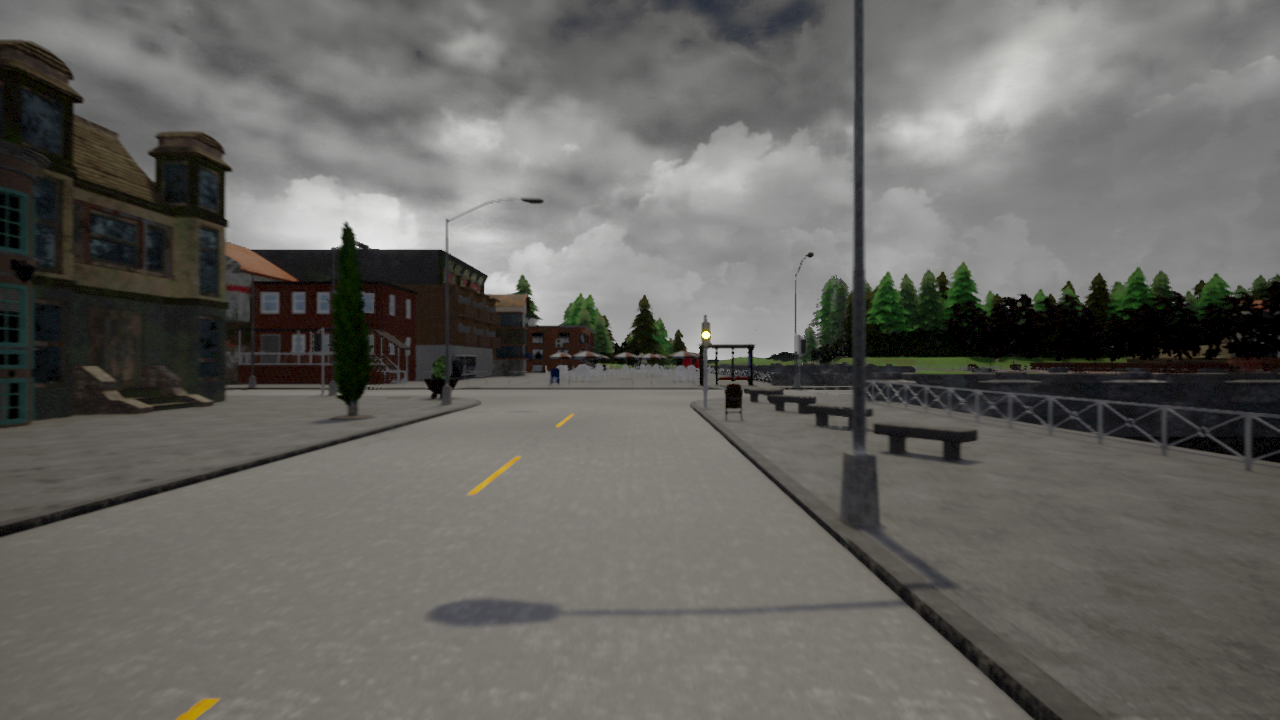yellow: (700, 321, 712, 346)
